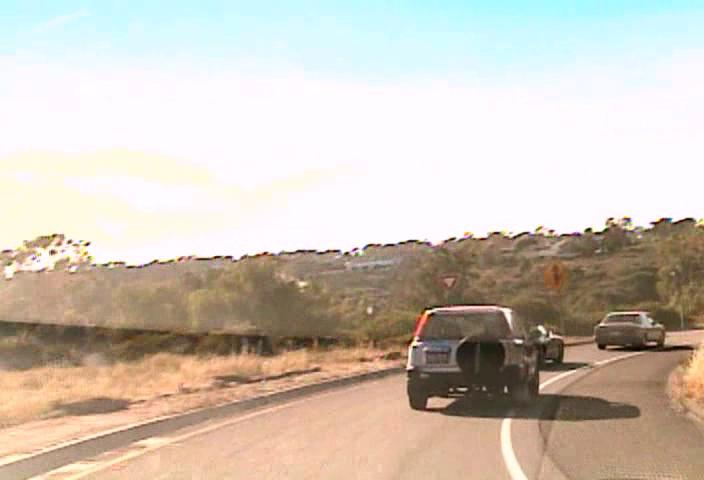yield: (438, 273, 458, 291)
